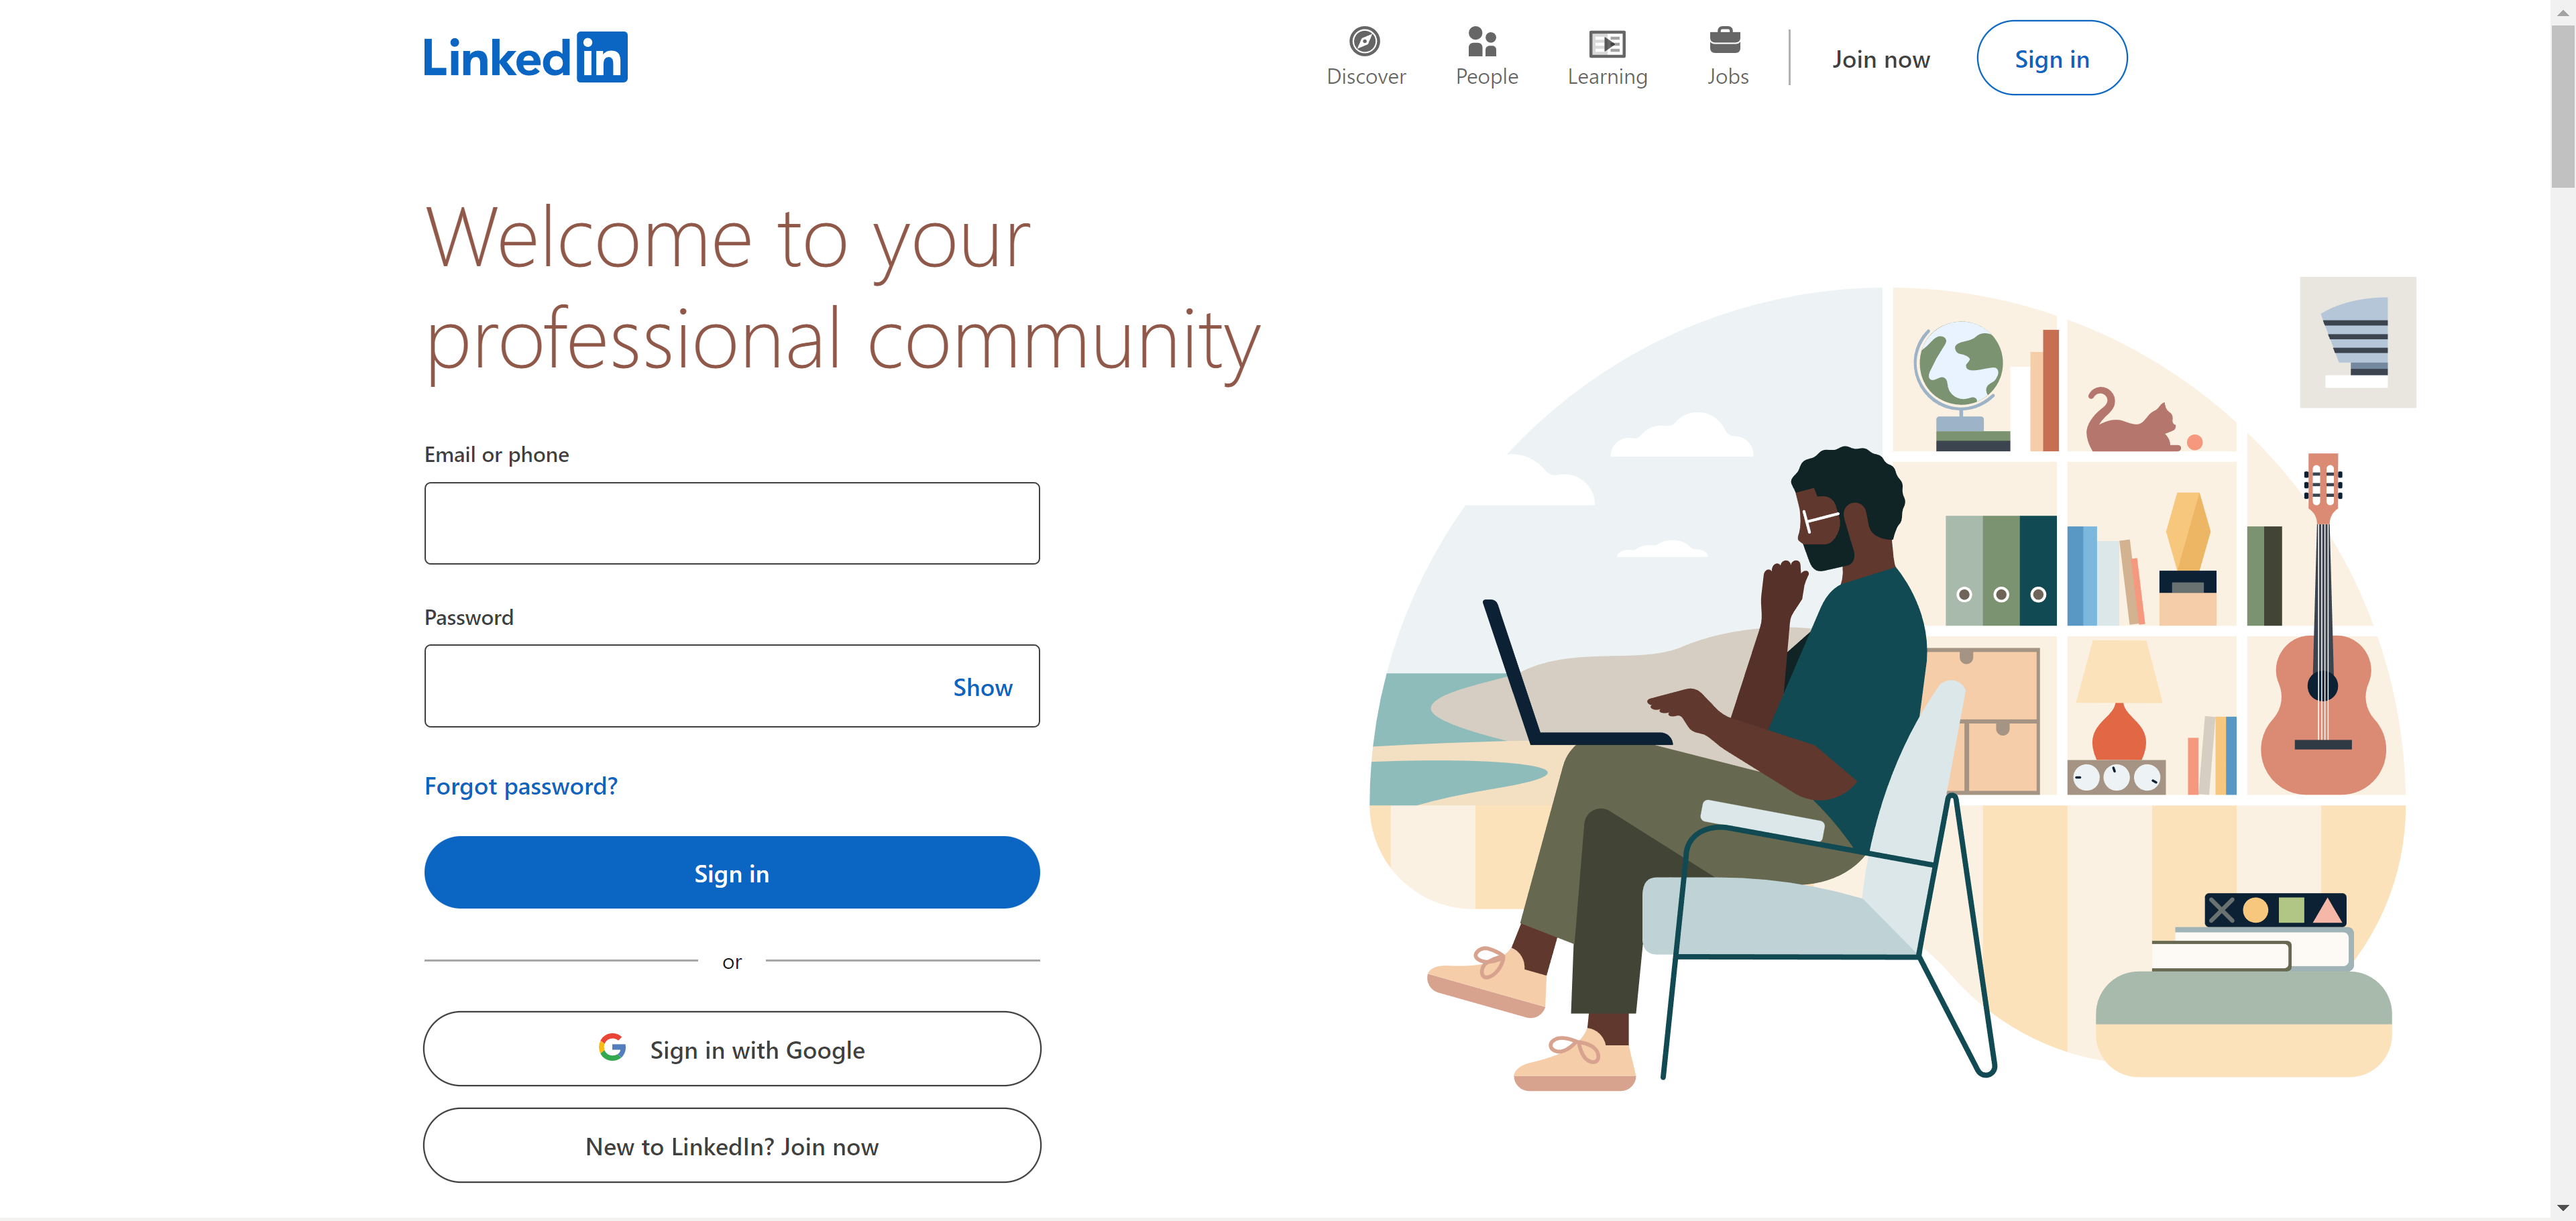login_button: (424, 836, 1042, 909)
login_form: (417, 439, 1048, 919)
